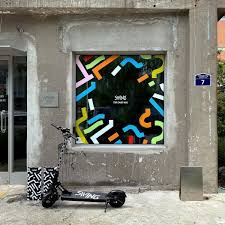kick_board: (42, 123, 125, 208)
kick_body: (64, 191, 107, 201)
kick_handler: (52, 123, 78, 141)
kick_wheel: (110, 191, 125, 208), (43, 190, 57, 208)
